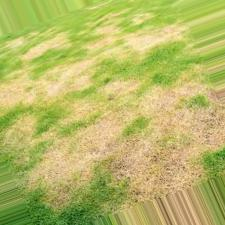patch: (140, 152, 185, 182), (53, 150, 111, 168), (179, 115, 218, 132), (48, 79, 67, 100), (76, 133, 106, 146), (102, 118, 129, 132), (156, 103, 170, 124), (5, 85, 24, 98), (58, 176, 87, 184), (31, 77, 42, 95), (121, 149, 133, 165), (140, 104, 152, 116), (188, 140, 201, 150), (72, 108, 93, 114), (113, 105, 121, 120), (148, 135, 165, 140), (40, 165, 50, 172)
